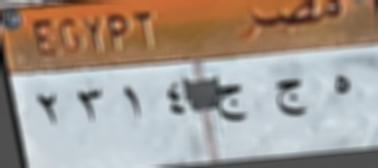1: (119, 84, 150, 134)
2: (30, 86, 64, 134)
3: (74, 84, 108, 128)
4: (164, 75, 188, 120)
haa: (327, 68, 356, 107)
jeem: (270, 73, 311, 128), (209, 78, 250, 132)
